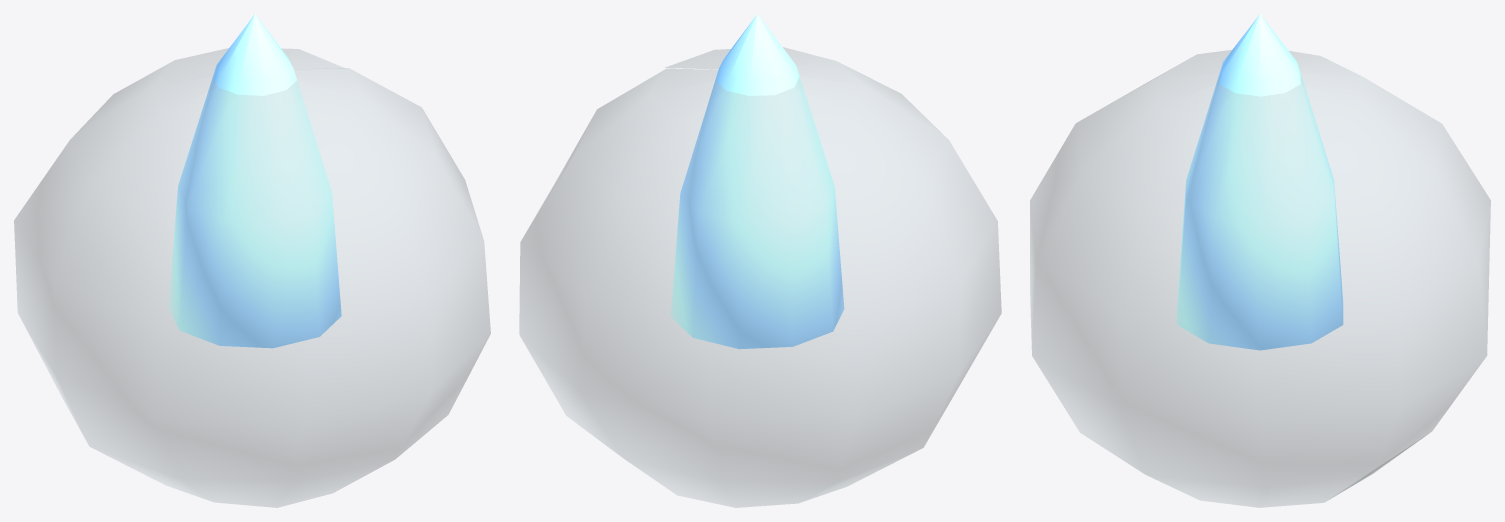
Rendered from fruit-bamboo-frozen.gltf.
3 renders of one model, left to right at view 1: azimuth 30°, elevation 25°; view 2: azimuth 150°, elevation 25°; view 3: azimuth 270°, elevation 25°, orthographic.
Bounding box in the file's own units: 0.6136 × 0.67 × 0.5929.
